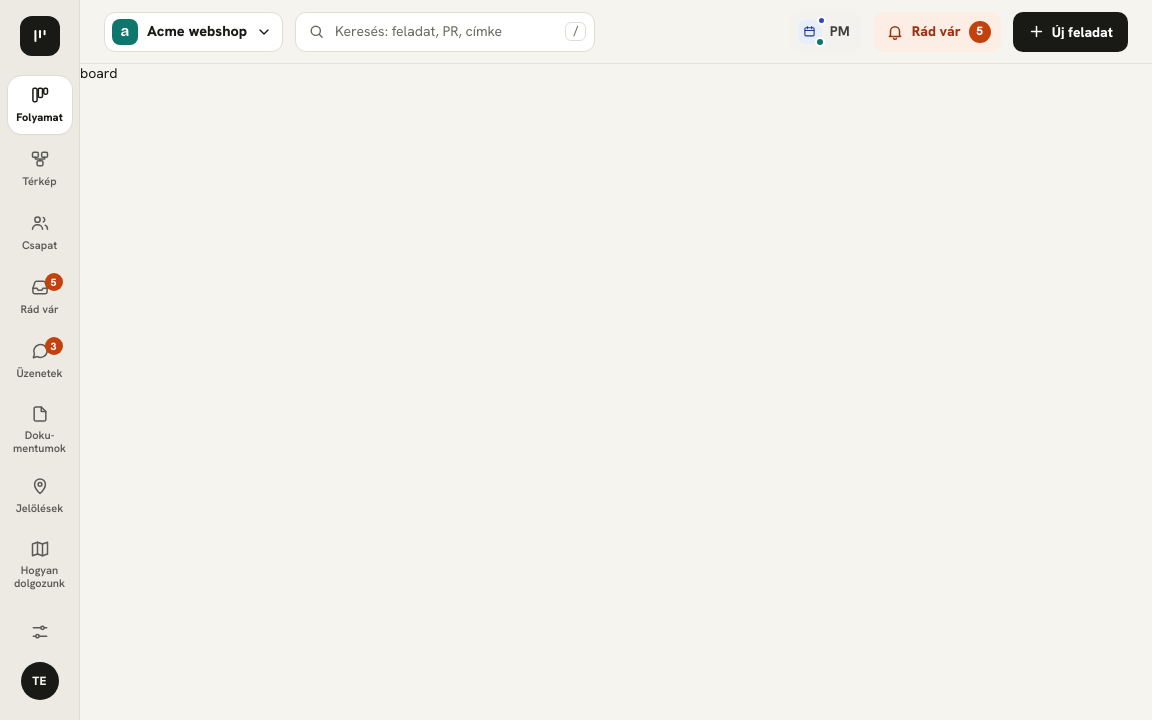
Scenario: the Operator panel › the places the Operator offers (PM-1071) › offers a button that goes there on click, and nowhere before
What coordinates should you click on to do the following:
click the button "PM"
I would click on:
 (826, 32)
Its box is [790, 12, 862, 52].
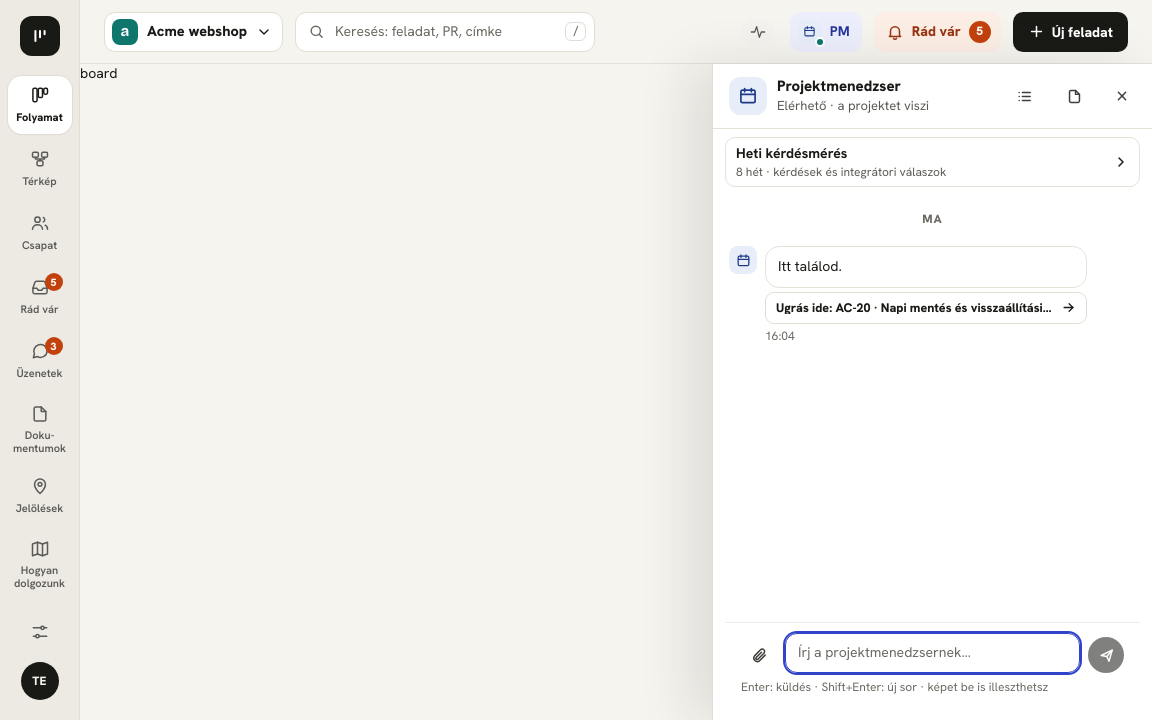
Expected: the text "board" is shown, [80, 64, 117, 82]
What coordinates should you click on to do the following:
click the link "Ugrás ide: AC-20 · Napi mentés és visszaállítási próba"
I would click on:
 (926, 308)
Its box is [765, 292, 1087, 324].
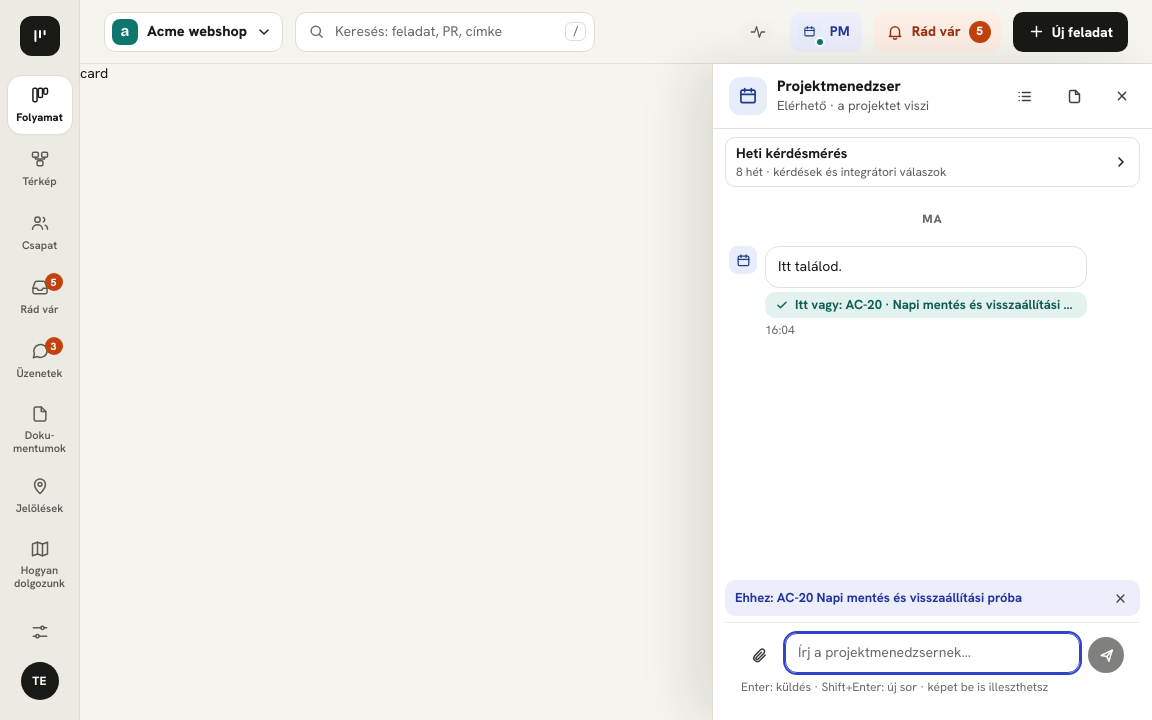
Expected: the text "card" is shown, [80, 64, 108, 82]
